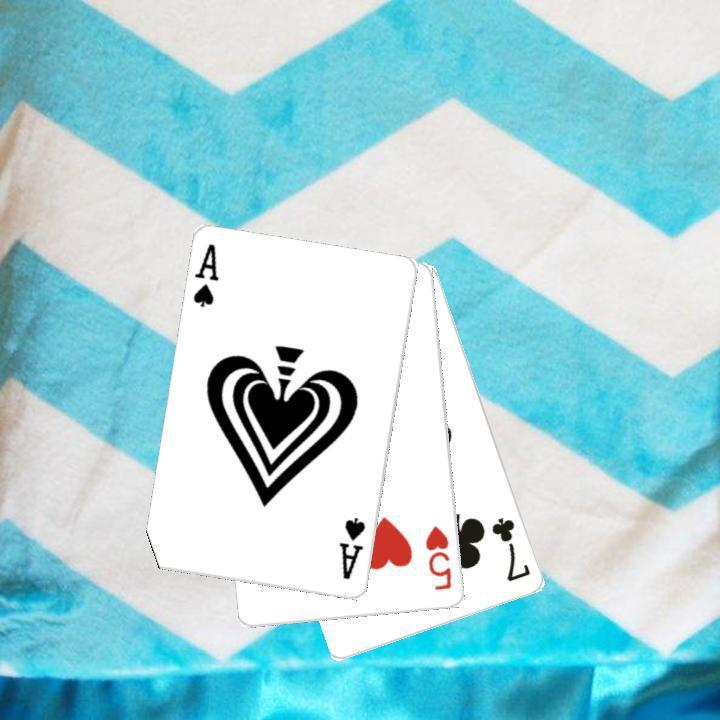5: (422, 522, 454, 593)
7: (487, 513, 533, 584)
A: (189, 239, 221, 310), (335, 514, 368, 582)
